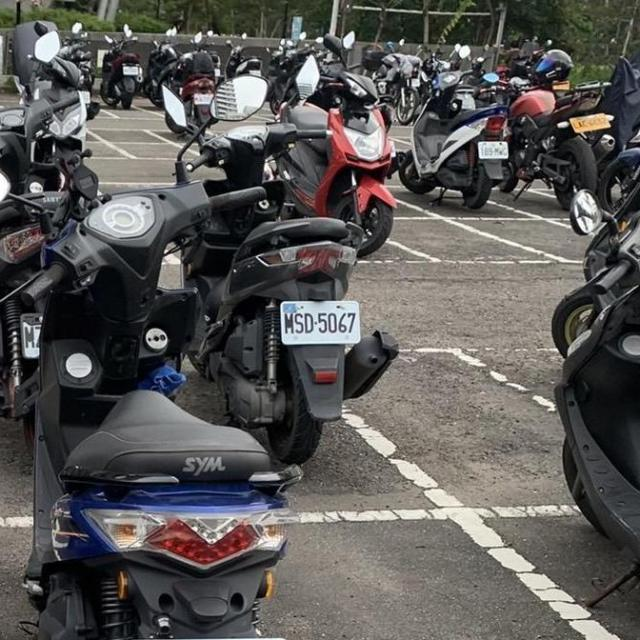W: (278, 296, 364, 346), (478, 139, 511, 161)
Y: (569, 112, 613, 134)
